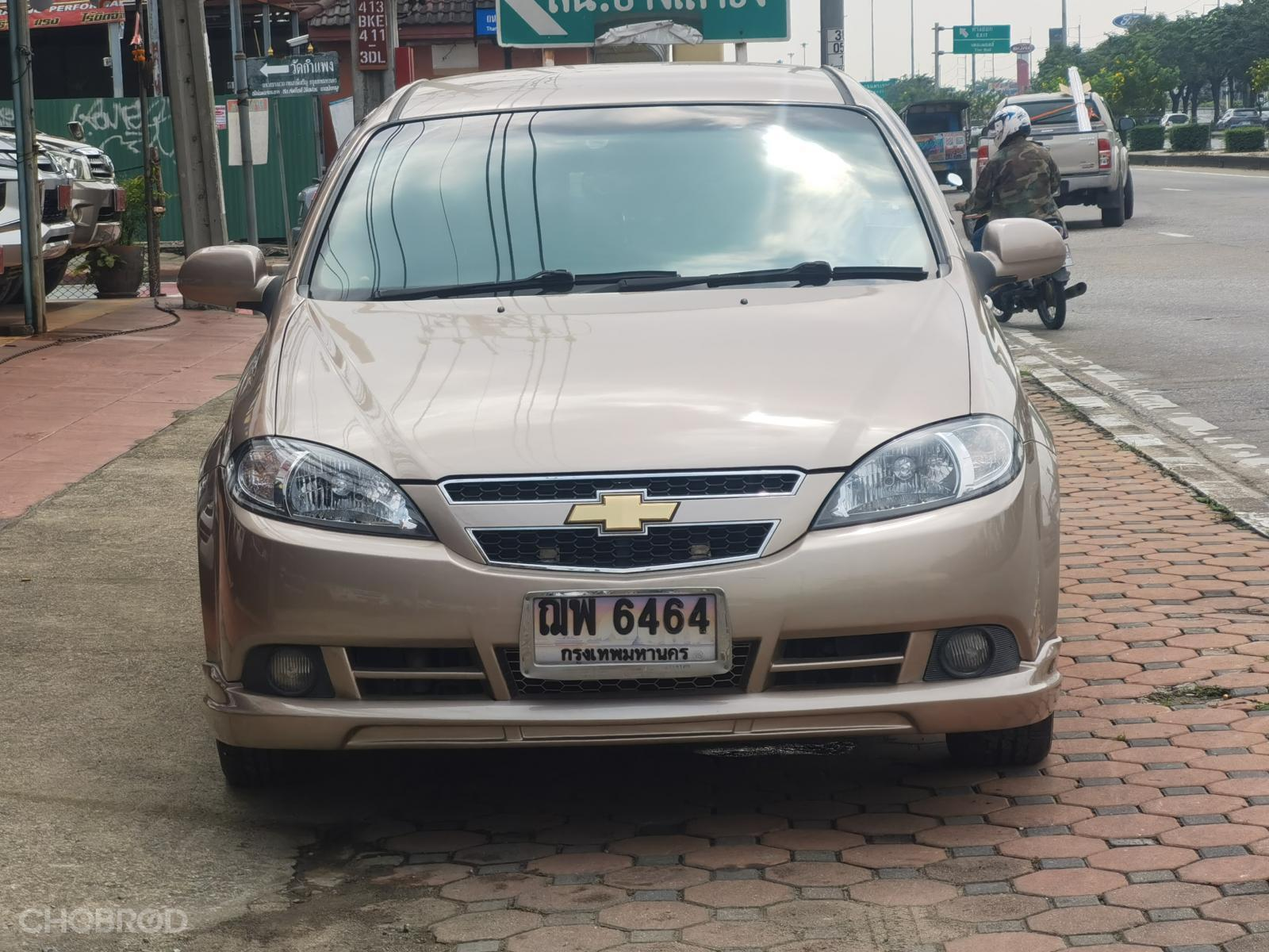license-plate: (509, 584, 744, 686)
